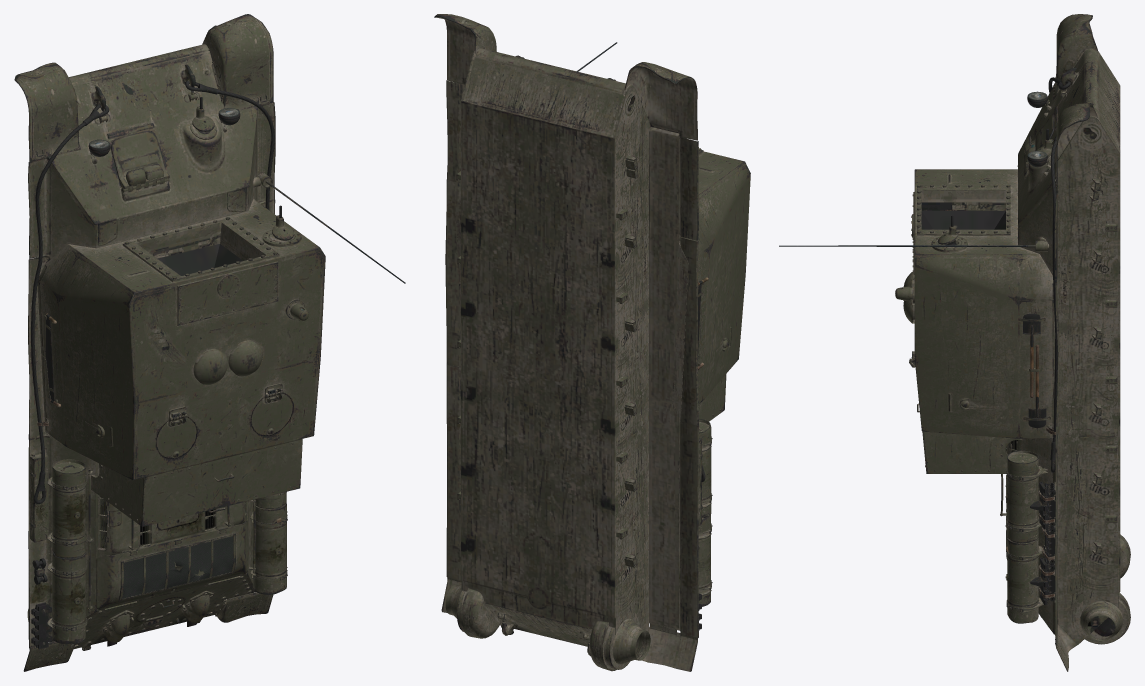
File: Hull.glb
The picture shows the model from 3 angles, left to right: view 1: azimuth 30°, elevation 25°; view 2: azimuth 150°, elevation 25°; view 3: azimuth 270°, elevation 25°; orthographic projection. The views are drawn at different scales.
Parts seen in each view (by area): view 1: set_0_group_0; view 2: set_0_group_0; view 3: set_0_group_0.
Part boxes in pixels (left/top/right/bottom): set_0_group_0: left=14, top=14, right=405, bottom=671; set_0_group_0: left=434, top=14, right=750, bottom=671; set_0_group_0: left=779, top=14, right=1130, bottom=671.
Bounding box in the file's own units: 3.07 × 6.97 × 4.
1 material, 1 textured.
